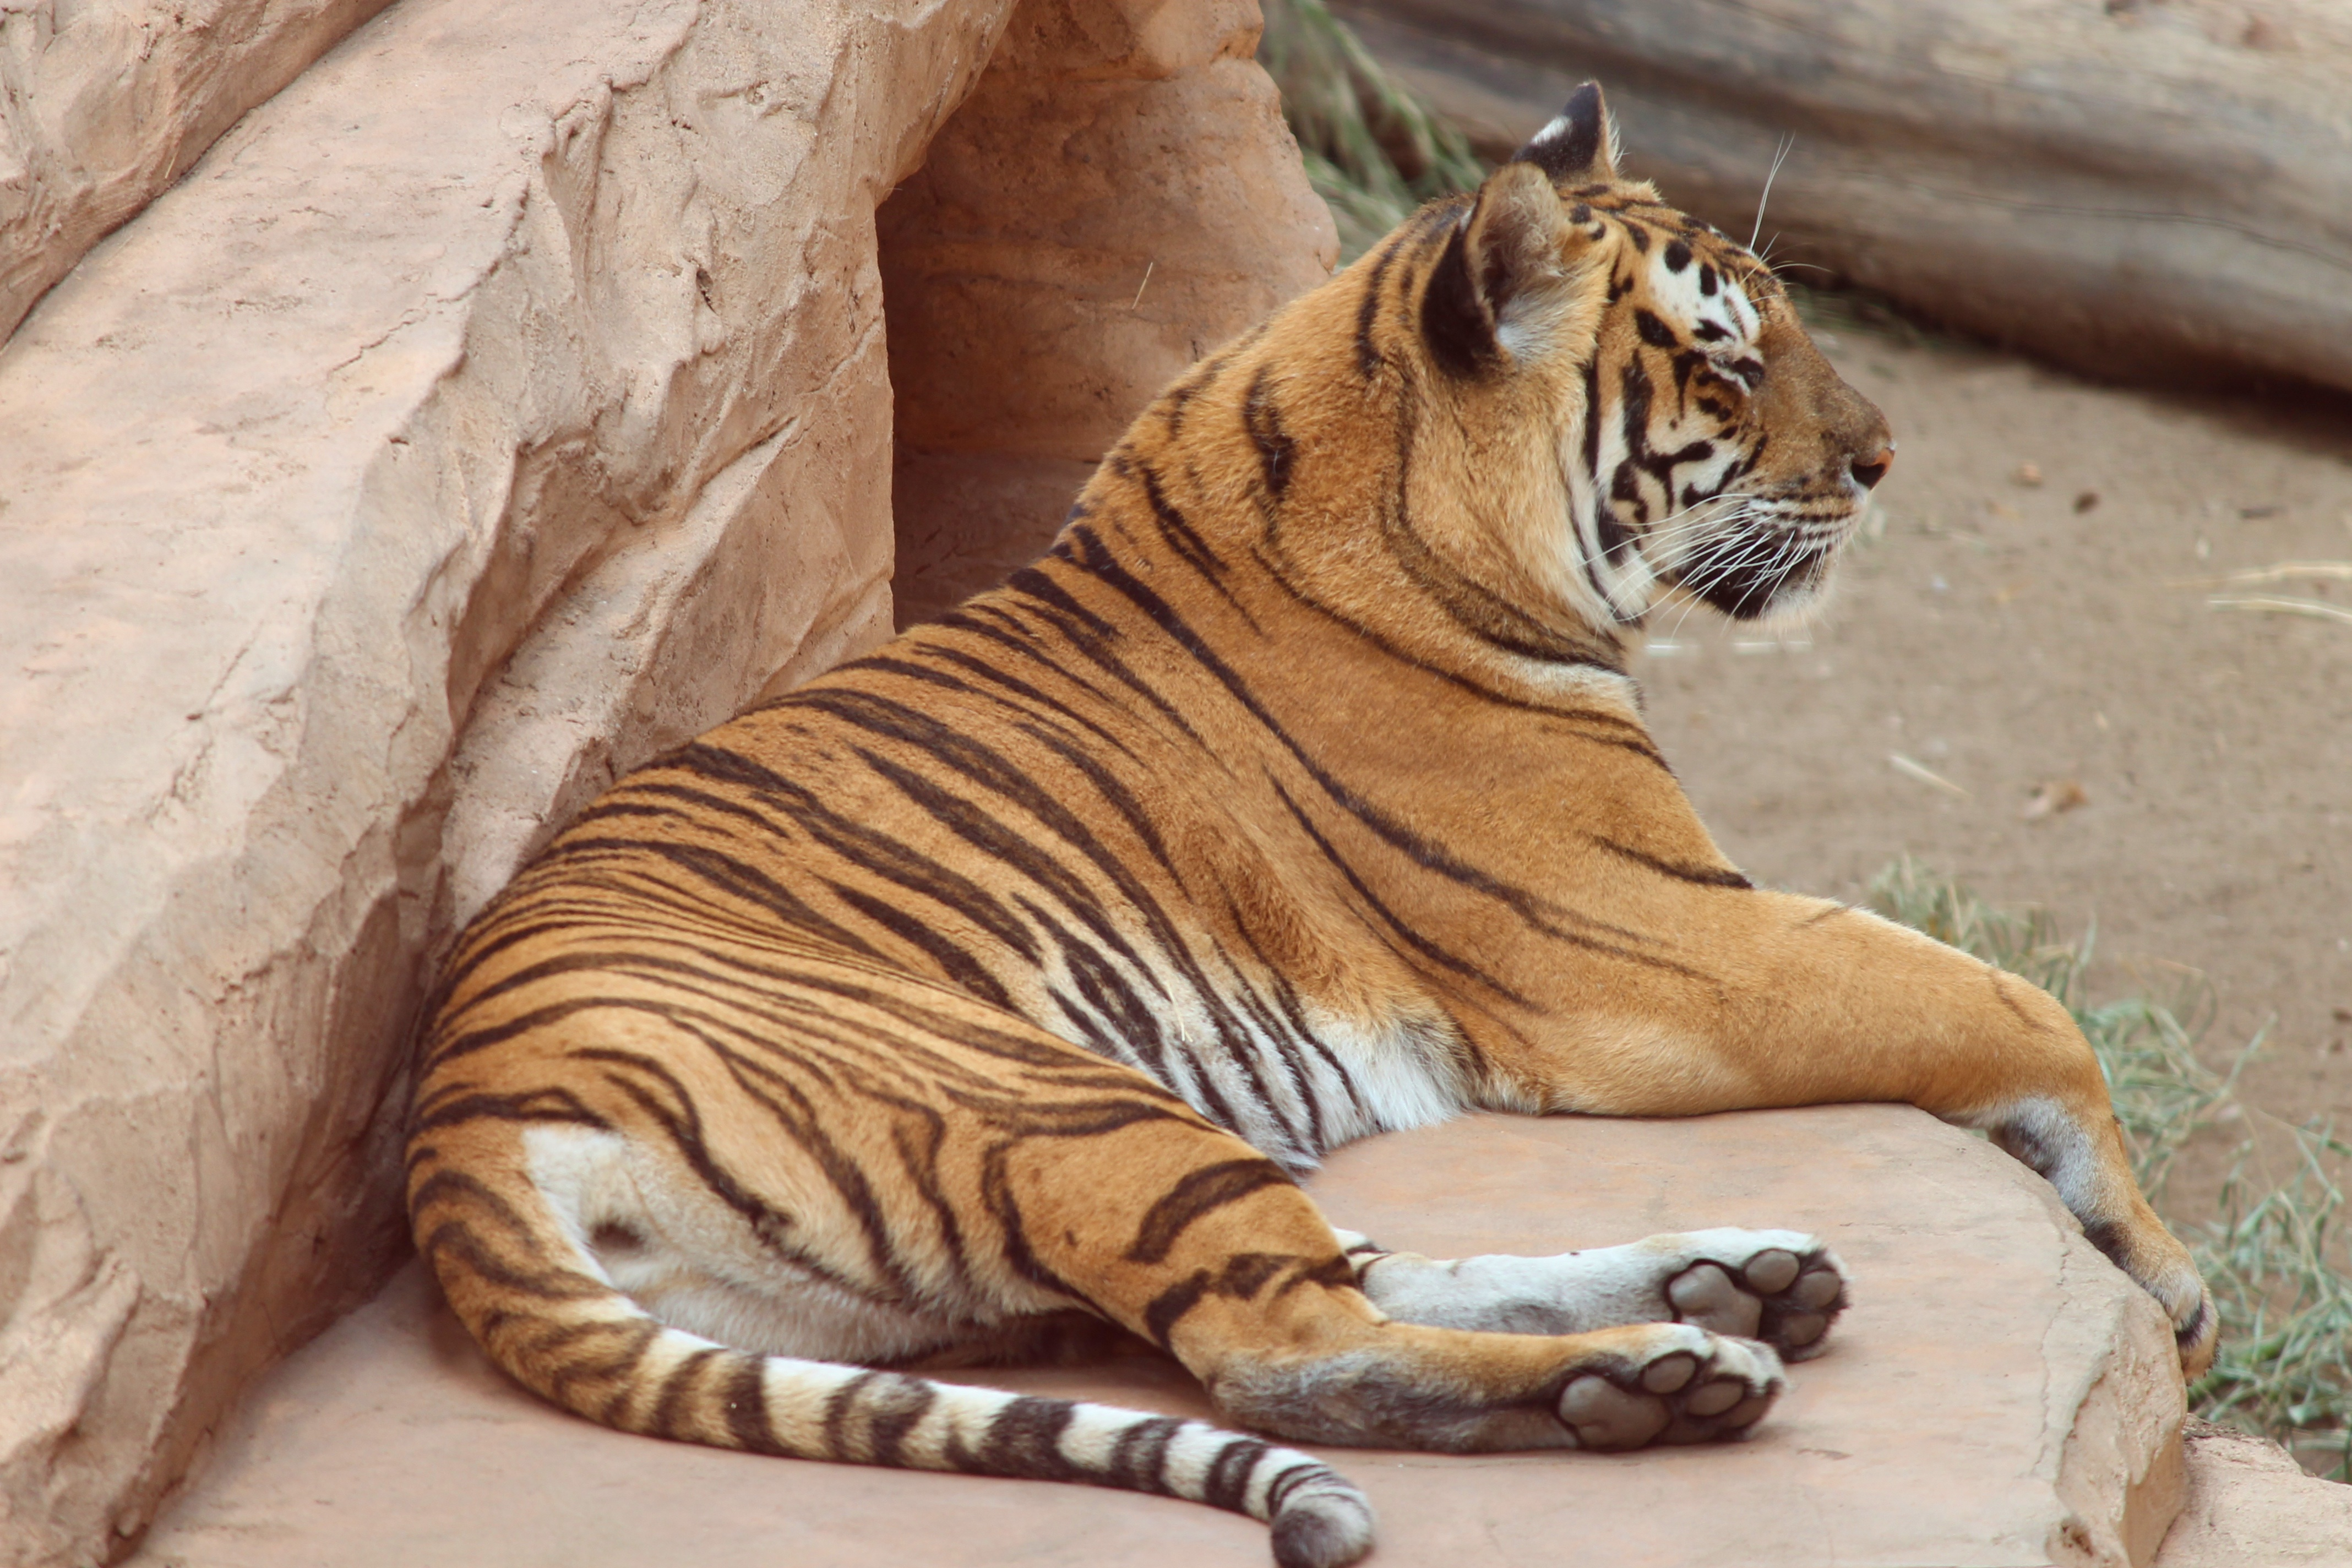tiger: (602, 122, 2030, 1419)
